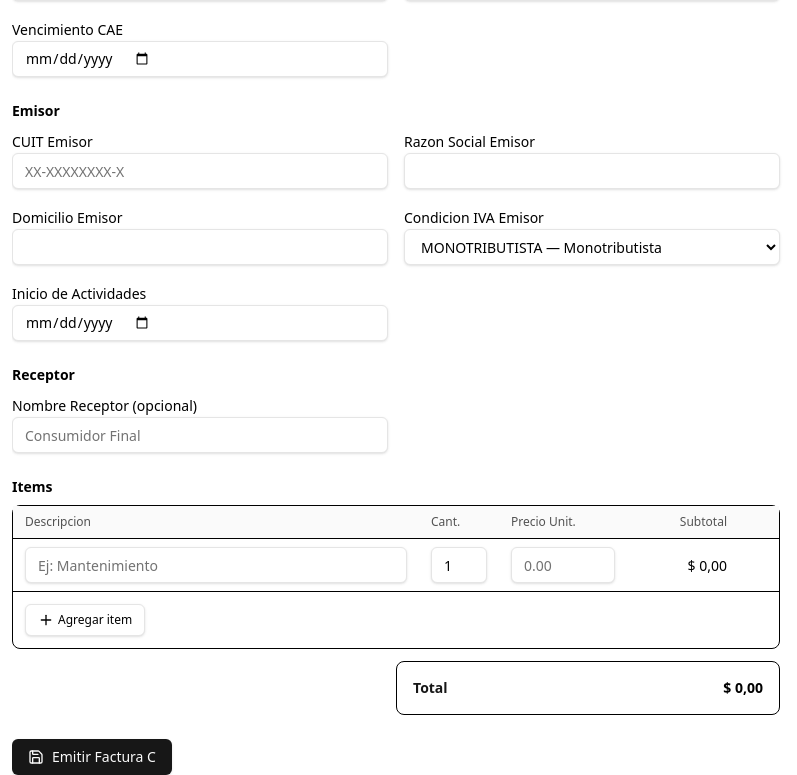
Test: FacturaCForm › [@validation] shows required field errors on empty submit
The width and height of the screenshot is (797, 775).
(page scrolled)
Click the button "Emitir Factura C": (92, 757) [12,739,172,774]
(page scrolled)
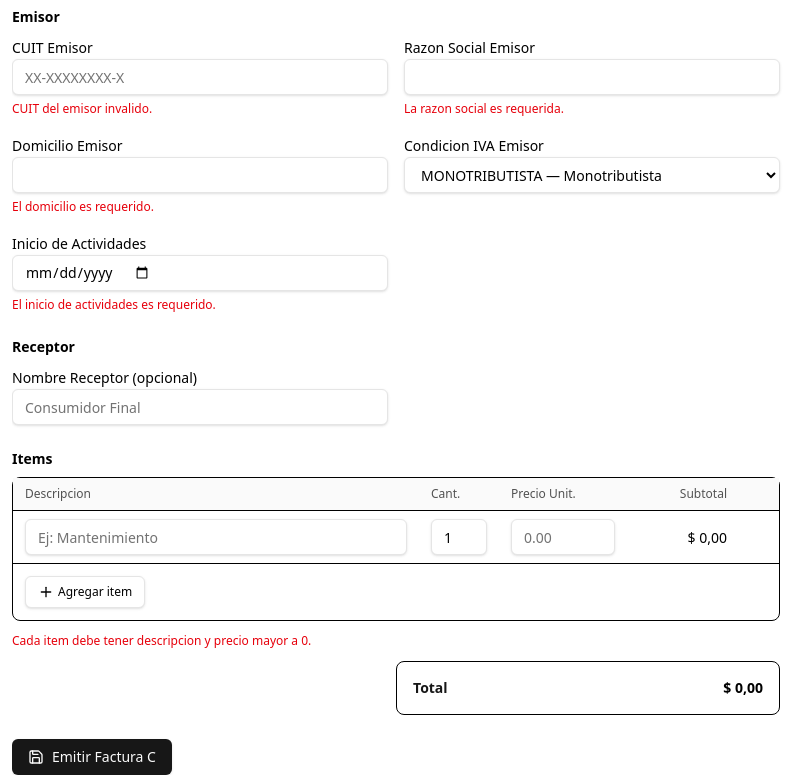
Expected: the text "Cada item debe tener descripcion y precio mayor a 0." is shown, [12,632,311,649]
